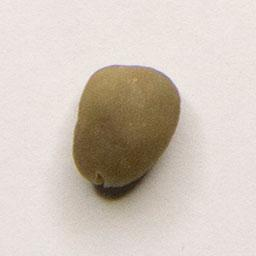peaberry: (67, 59, 185, 196)
